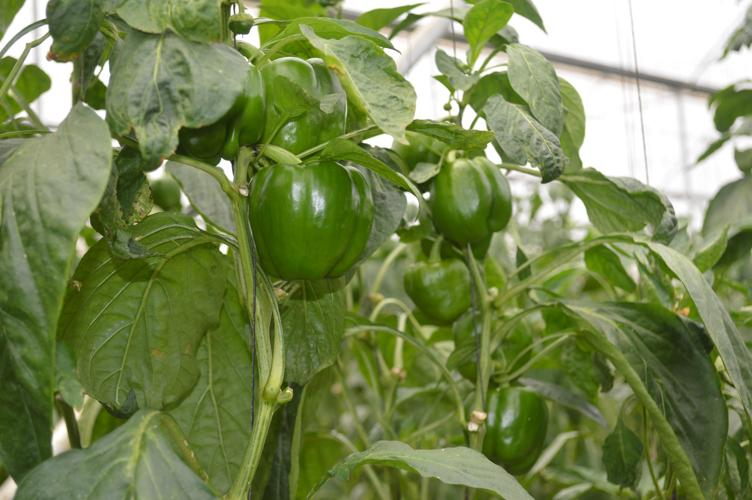BellPepper: (248, 160, 371, 283), (161, 57, 263, 167), (268, 56, 348, 157), (425, 154, 508, 242), (467, 390, 545, 469), (451, 312, 527, 385), (404, 258, 470, 322)
